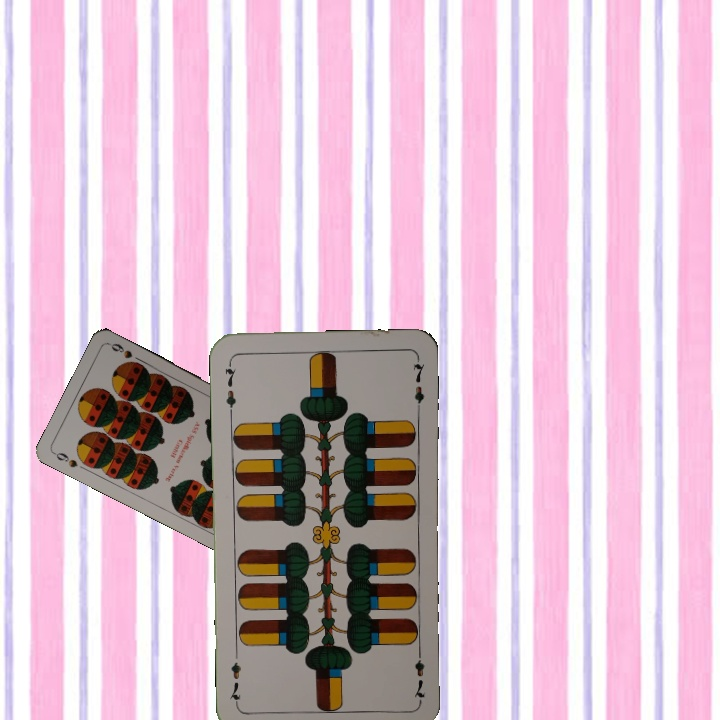E7: (220, 357, 239, 416), (410, 644, 427, 703)
S9: (49, 448, 80, 470)
